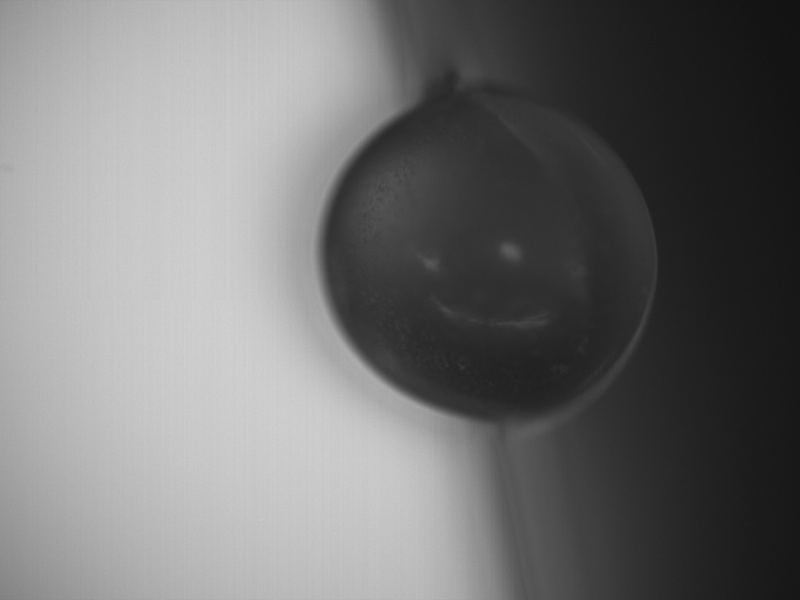bead: (315, 89, 660, 430)
